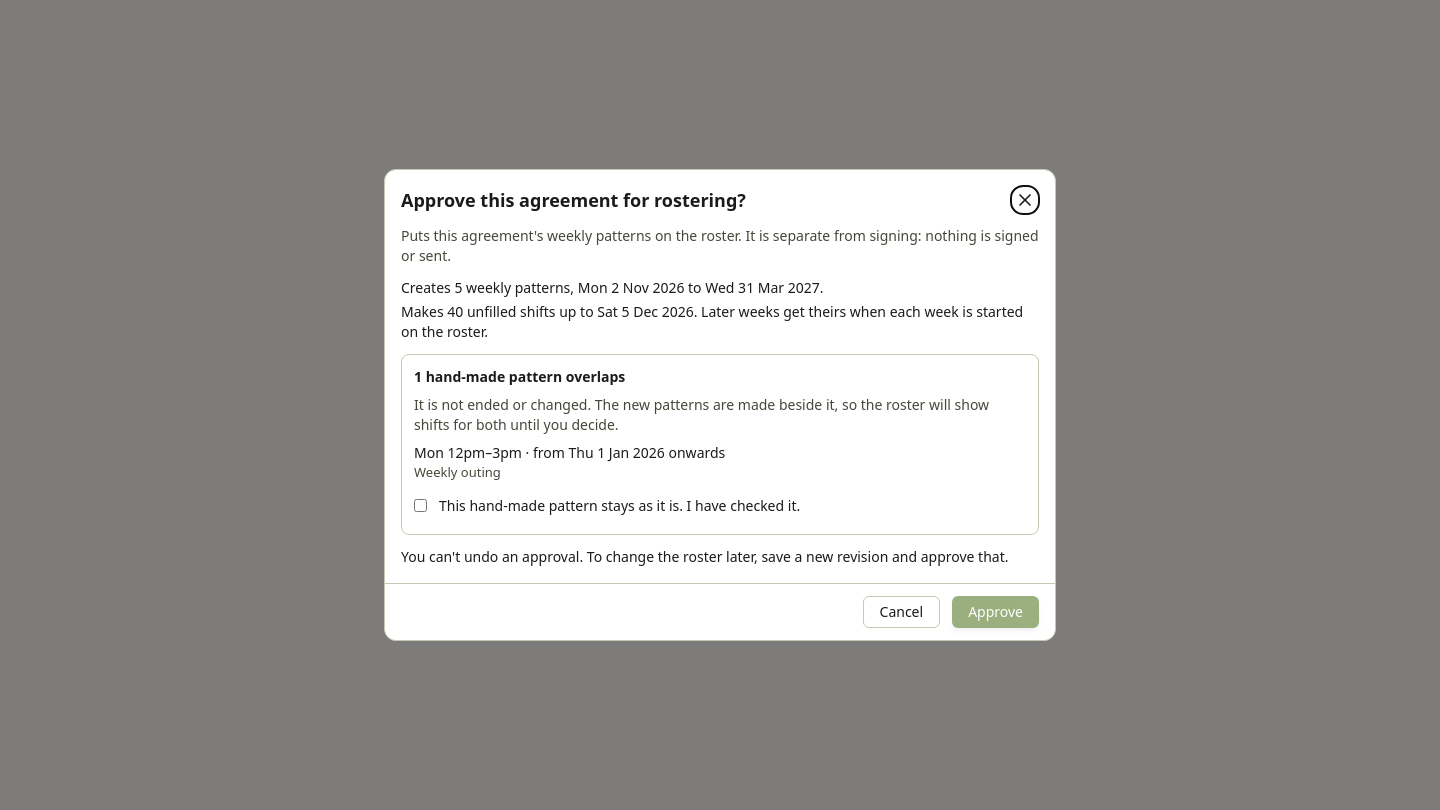
ApprovalDialog: hand-made patterns that overlap › says it in the singular for one overlapping pattern, down to the box and its label
Check: the heading "1 hand-made pattern overlaps" is shown, box [414, 367, 625, 386]
Check: the text "It is not ended or changed. The new patterns are made beside it, so the roster will show shifts for both until you decid" is shown, box [414, 395, 989, 434]
Click the checkbox labelled "This hand-made pattern stays as it is. I have checked it.".
click(420, 506)  # box [414, 499, 427, 512]
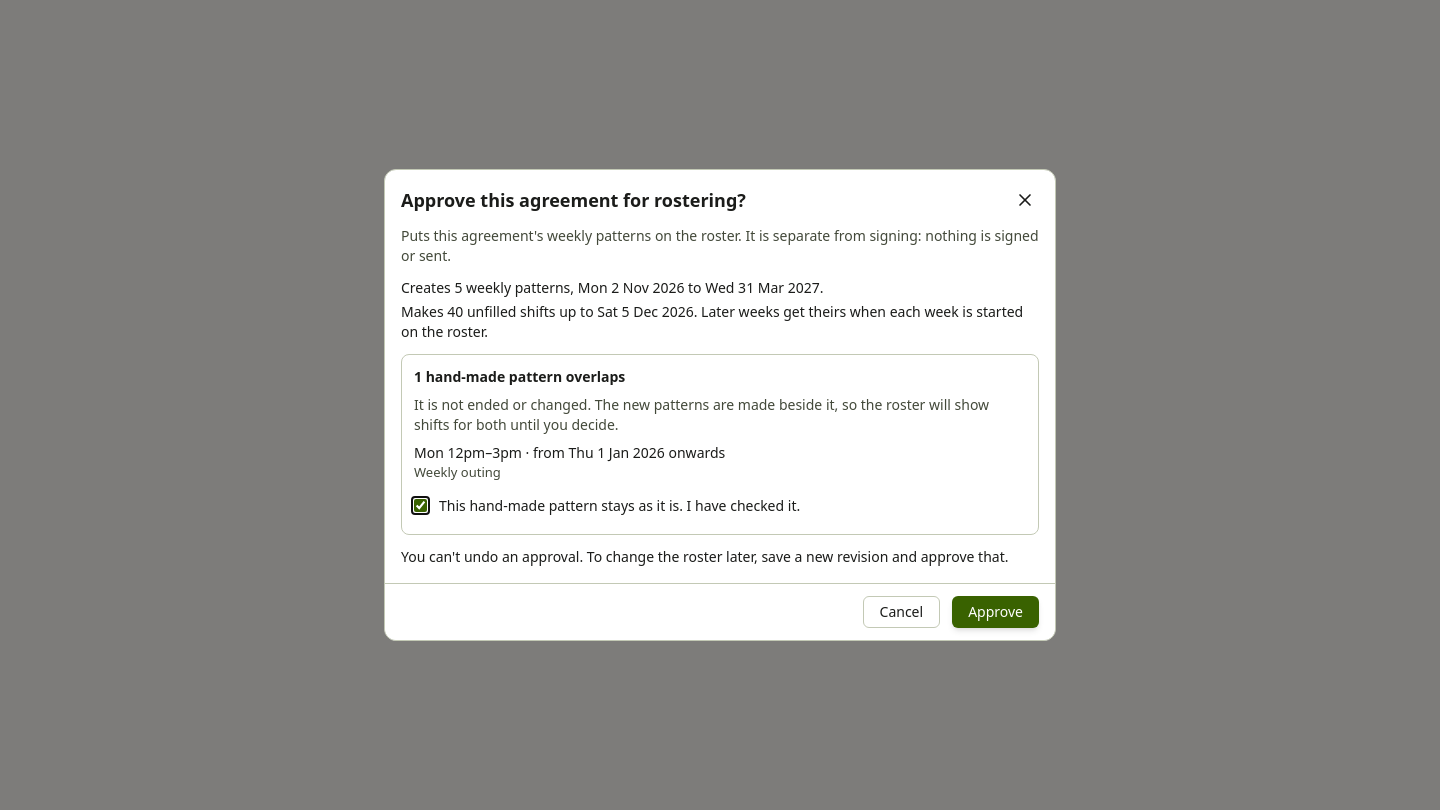
Check: the button "Approve" is enabled, box [952, 596, 1039, 628]
